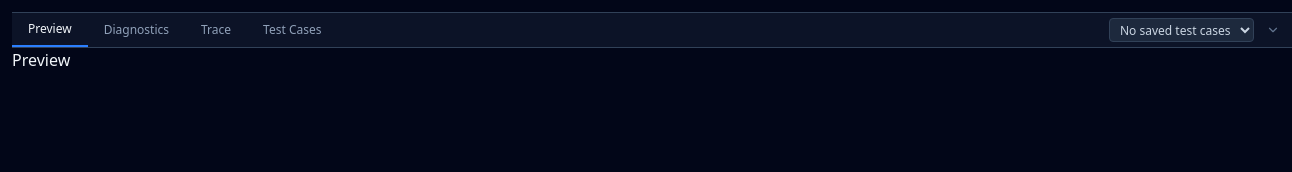
BottomArea › all tab panels remain mounted when switching tabs
Click the tab with test id "bottom-tab-trace": (216, 30) [185, 13, 247, 47]
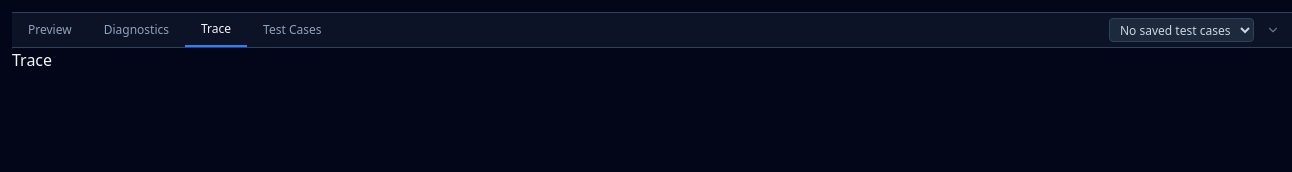
Result: the text "Trace" is shown at [12, 49, 52, 71]
